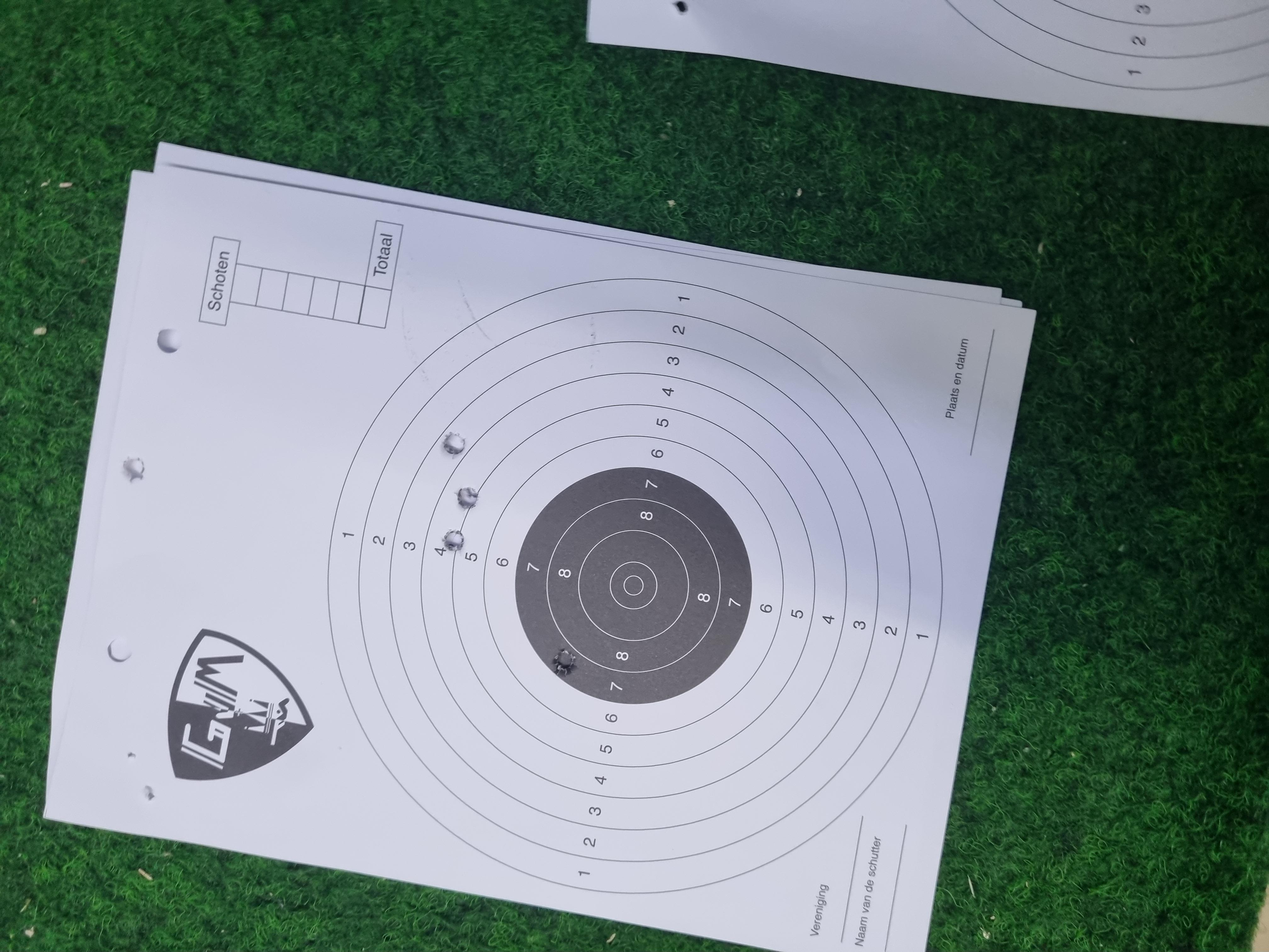hole: (618, 89, 669, 112), (368, 413, 404, 432), (658, 332, 694, 349), (590, 342, 620, 359), (533, 332, 563, 349)
